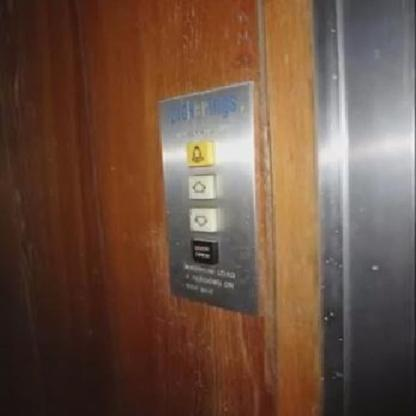alarm: (185, 138, 215, 167)
blur: (189, 237, 219, 264)
down: (186, 204, 223, 233)
up: (186, 173, 216, 198)
